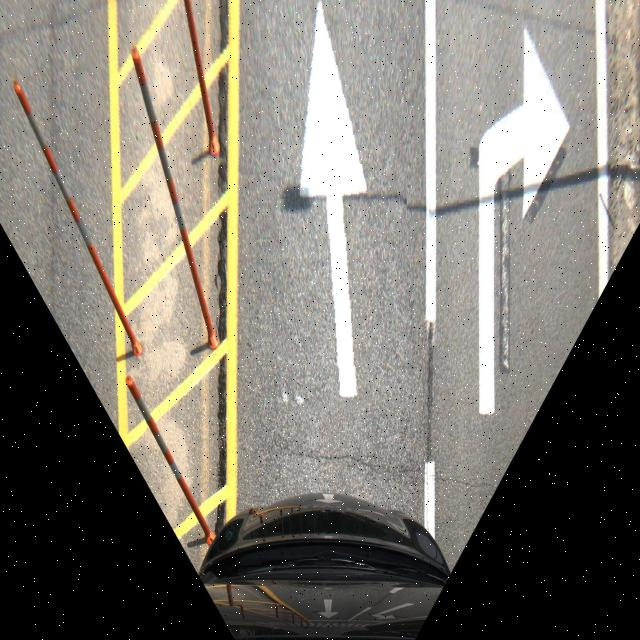forward: (261, 0, 407, 412)
